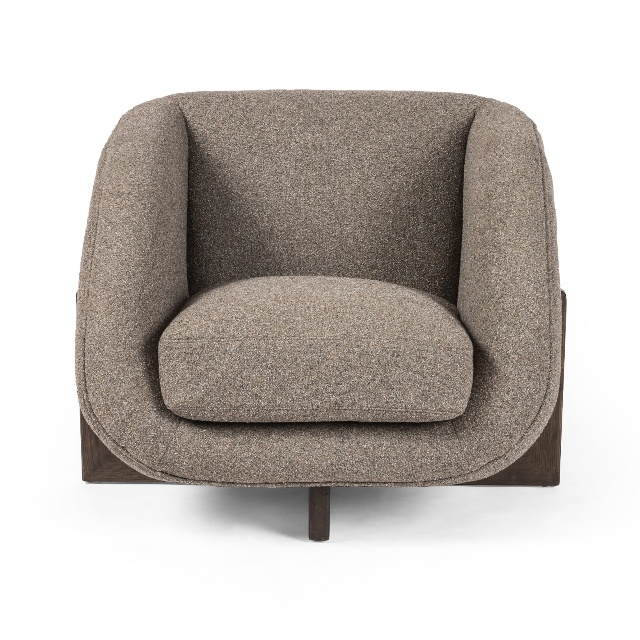obstacle: (76, 91, 561, 487)
